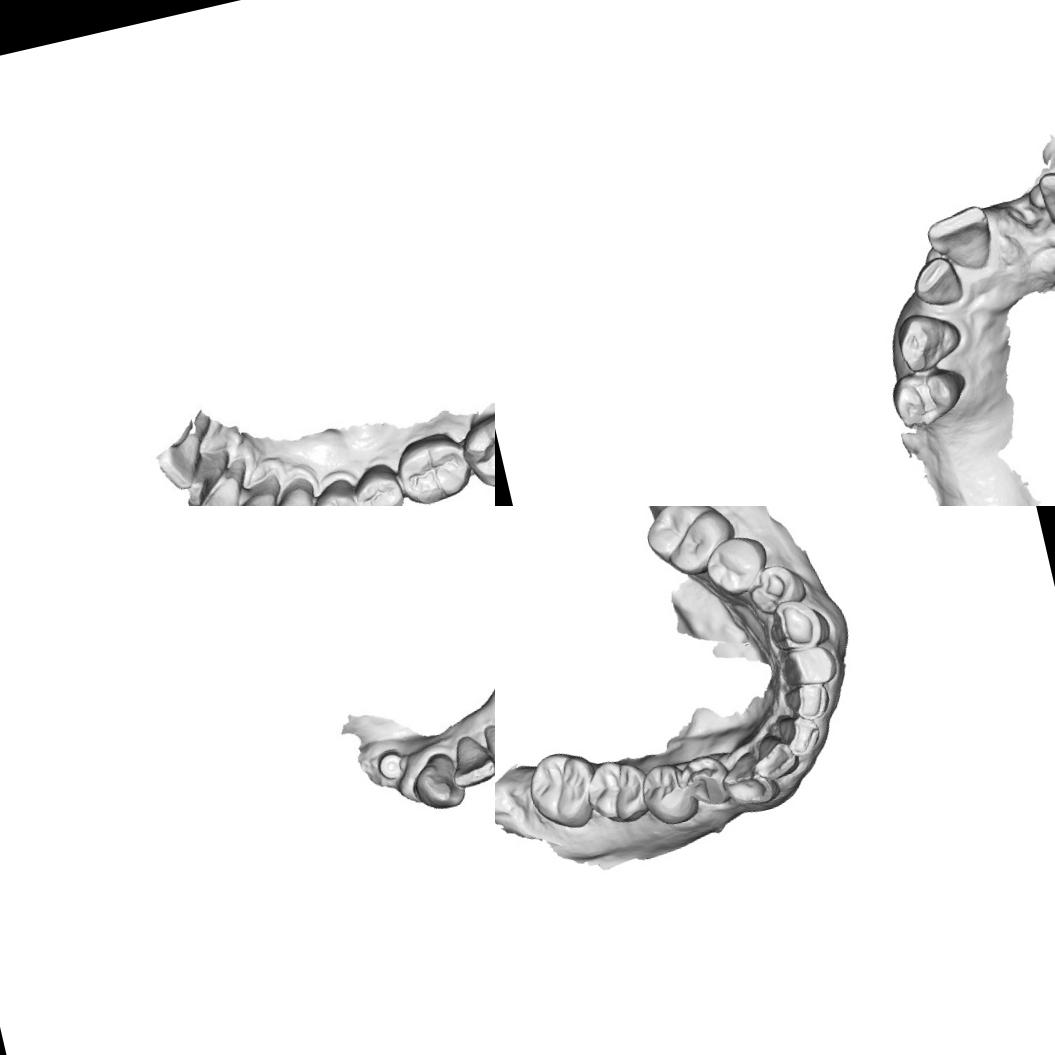canine: (890, 305, 966, 377), (763, 592, 833, 654), (406, 750, 469, 818), (718, 756, 778, 812), (263, 479, 326, 506)
incisor: (923, 202, 998, 278), (908, 252, 964, 312), (780, 640, 842, 691), (445, 732, 495, 789), (780, 676, 837, 725), (748, 732, 800, 785), (197, 465, 257, 506), (774, 712, 824, 760), (232, 476, 291, 506), (1034, 165, 1055, 231), (482, 718, 495, 782)
molar: (635, 506, 744, 587), (522, 743, 606, 837), (579, 753, 655, 832), (397, 432, 470, 501), (461, 411, 495, 489)
premolar: (885, 360, 972, 432), (700, 530, 774, 600), (635, 757, 704, 832), (744, 558, 810, 618), (682, 750, 737, 812), (355, 459, 408, 506), (312, 481, 366, 506)
